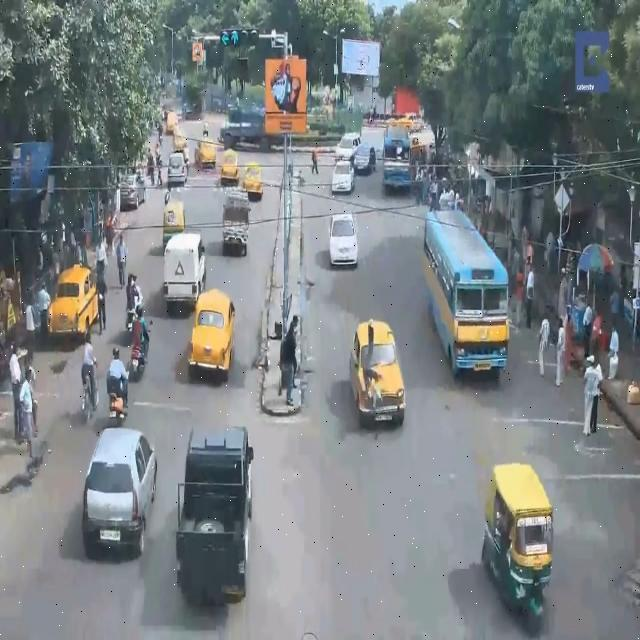accident: (346, 316, 416, 434)
